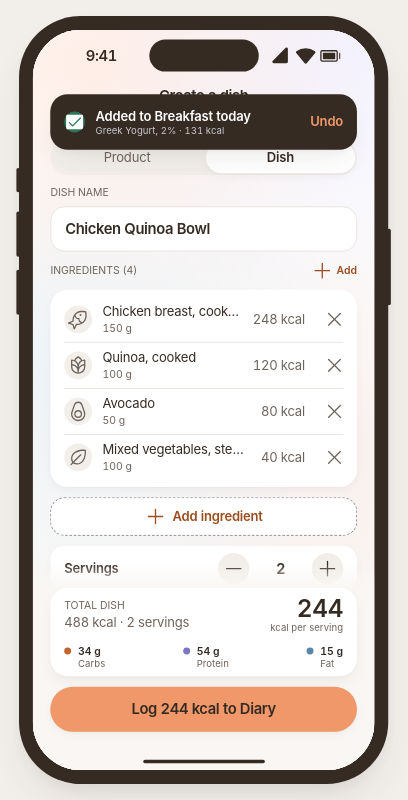
Test: DishScreen › shows the seeded dish maths and keeps it live
Check: the text "488 kcal · 2 servings" is shown, box [65,613,190,631]
Check: the text "244" is shown, box [297,595,344,622]
Click the button named "Remove Mixed vegetables, steamed": (335, 457) [316,438,354,476]
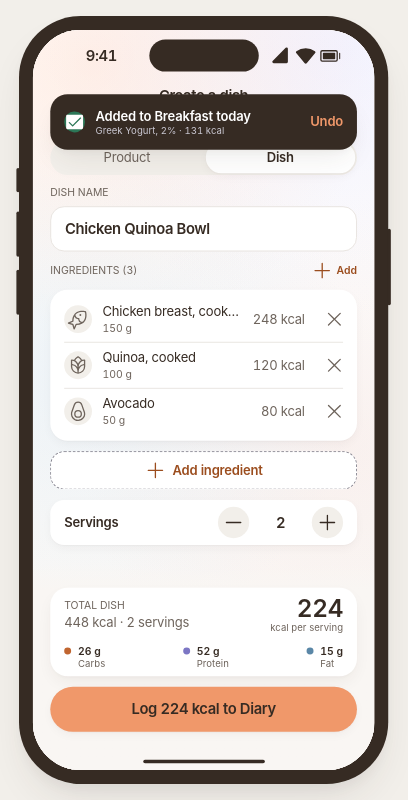
Check: the text "448 kcal · 2 servings" is shown, box [65,613,190,631]
Check: the text "224" is shown, box [297,595,344,622]
Click the button named "Increase Servings": (328, 522) [309,503,347,542]
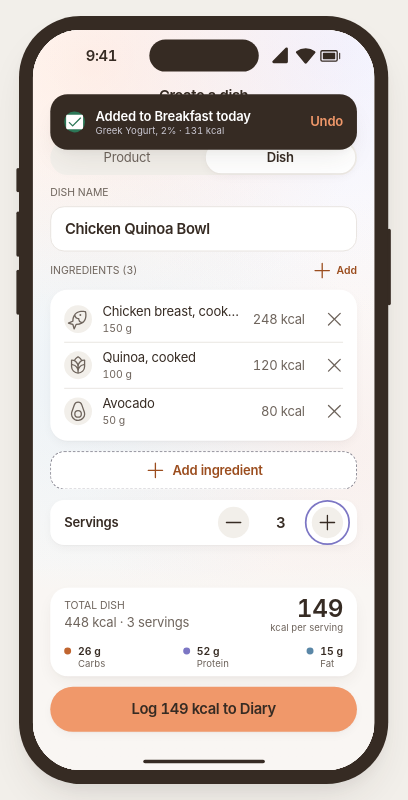
Check: the text "448 kcal · 3 servings" is shown, box [65,613,190,631]
Check: the text "149" is shown, box [297,595,344,622]
